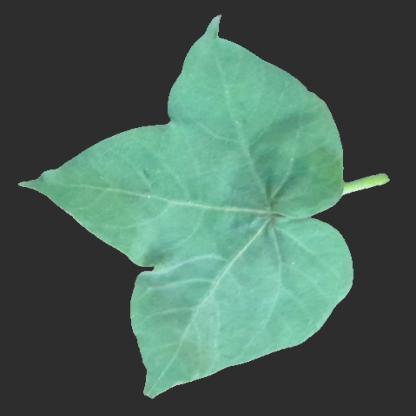healthy: (102, 138, 293, 230), (169, 251, 257, 363), (265, 231, 339, 321), (185, 72, 277, 126), (297, 102, 327, 182)
